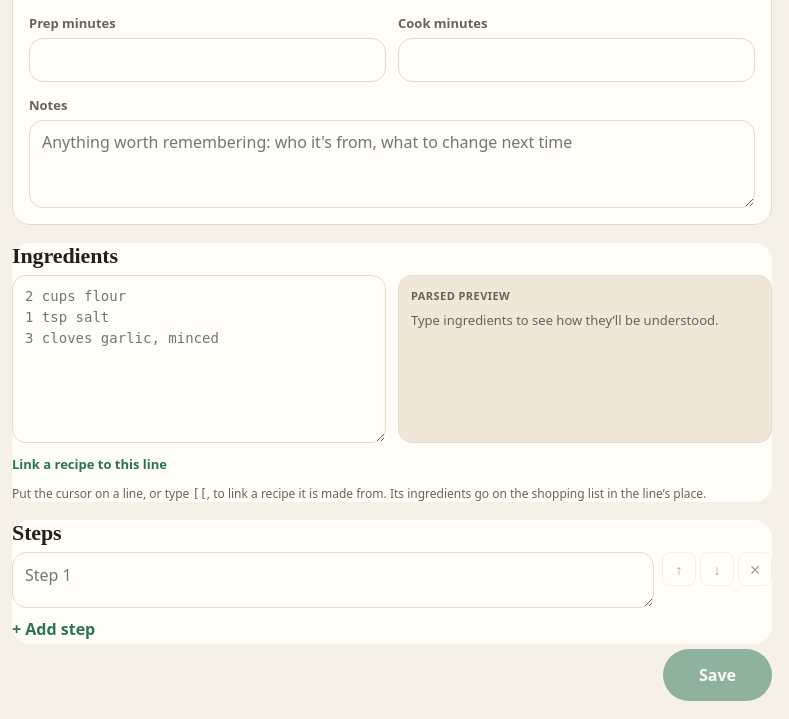
Test: RecipeEdit recipe links › opens the picker when [ [ is typed and picks with the keyboard
(page scrolled)
Type "1 sauce [ [" into the text box named "Ingredients, one per line" at (199,359), box [12, 275, 386, 443]
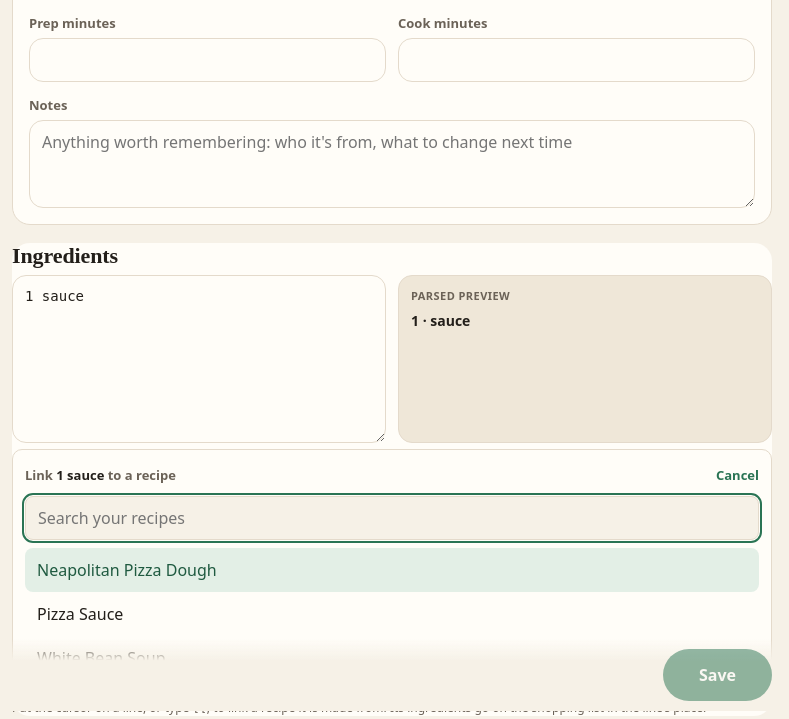
Type "pizza" into the dropdown labelled "Search your recipes" at (392,518), box [25, 496, 759, 540]
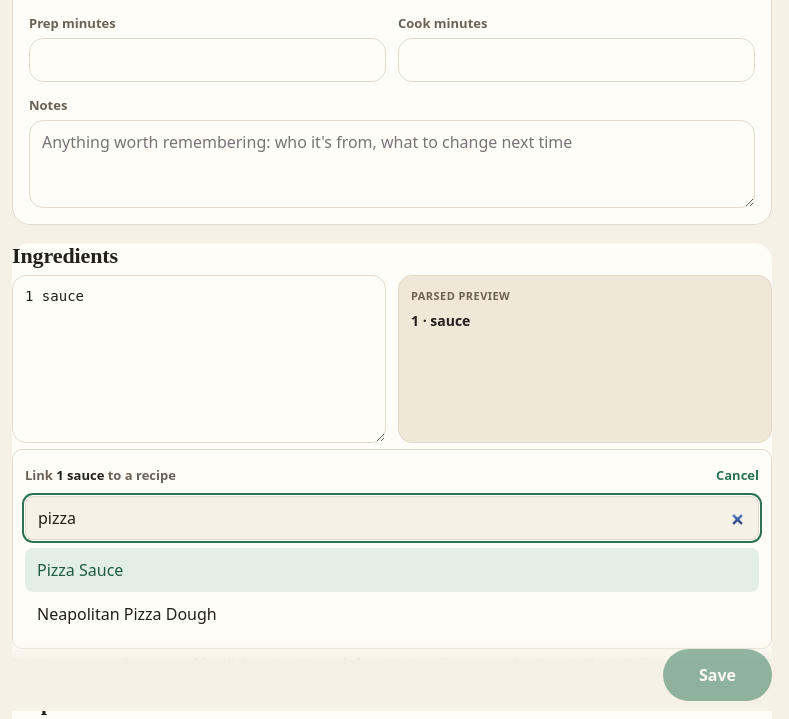
"Pizza Sauce" starts with the query, so it is offered first.
Press Enter in the dropdown named "Search your recipes", box [25, 496, 759, 540]
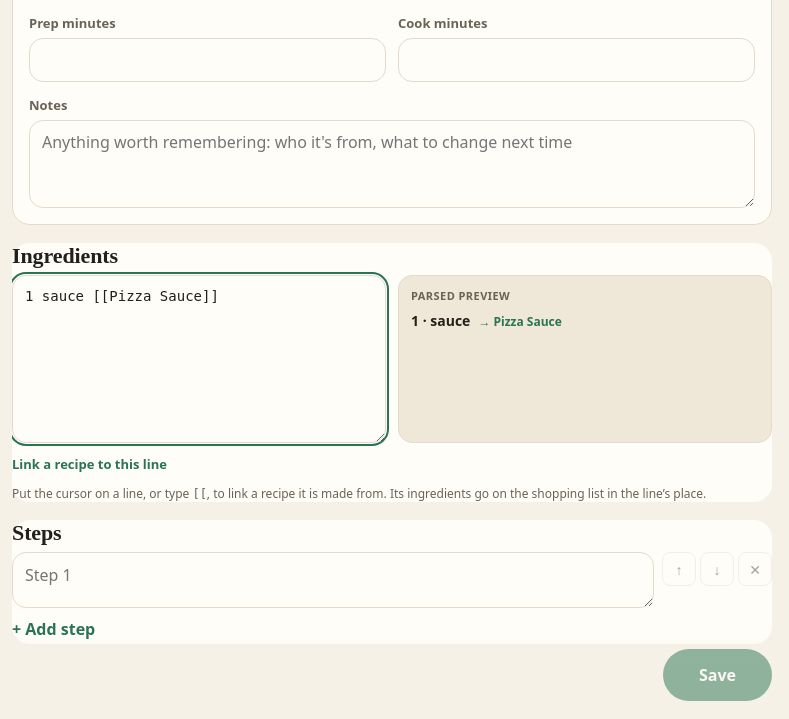
expect the text box named "Ingredients, one per line" holds "1 sauce [ [Pizza Sauce]]": met, box [12, 275, 386, 443]
